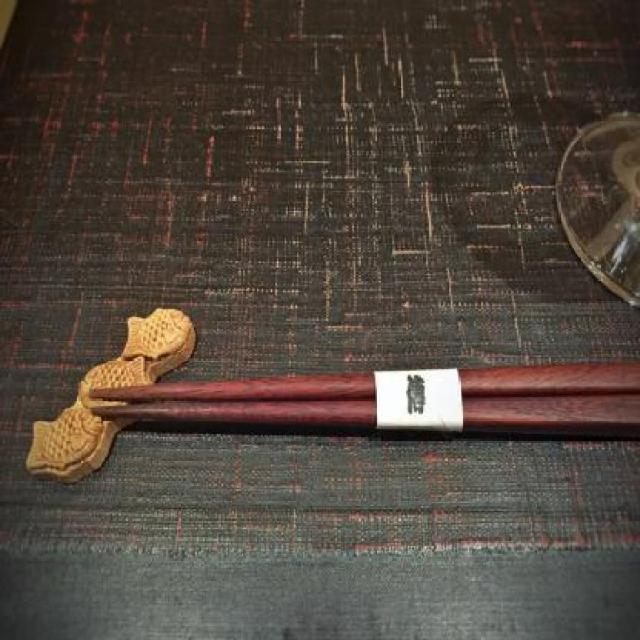Cookie: (26, 306, 197, 486)
